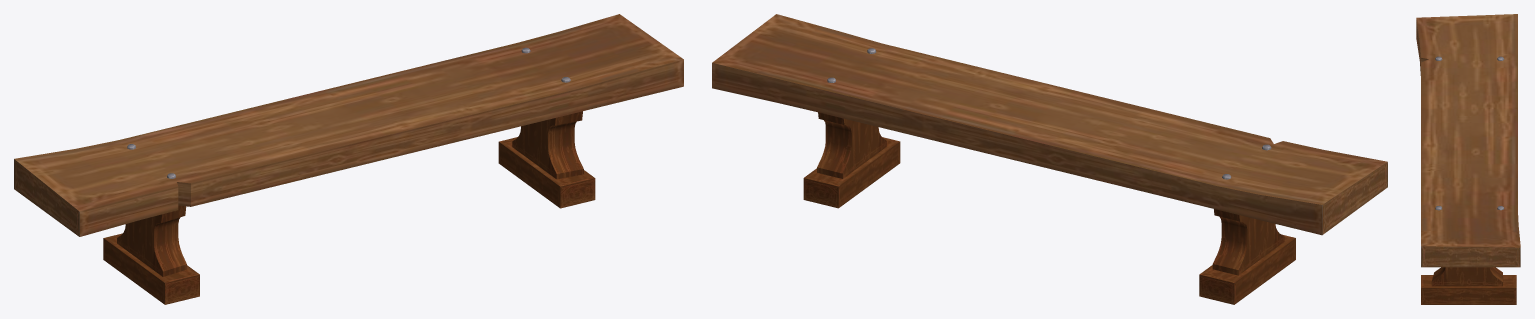
File: Bench.glb
The picture shows the model from 3 angles, left to right: view 1: azimuth 30°, elevation 25°; view 2: azimuth 150°, elevation 25°; view 3: azimuth 270°, elevation 25°; orthographic projection. The views are drawn at different scales.
Visible parts, largest first — view 1: Bench; view 2: Bench; view 3: Bench.
Boxes of the visible parts, x1,y1,x2,y2 form: Bench: (14, 14, 683, 304); Bench: (712, 14, 1387, 304); Bench: (1416, 14, 1520, 304).
Bounding box in the file's own units: 2.78 × 0.5332 × 0.5342.
Materials: 2 (2 with a texture image).
